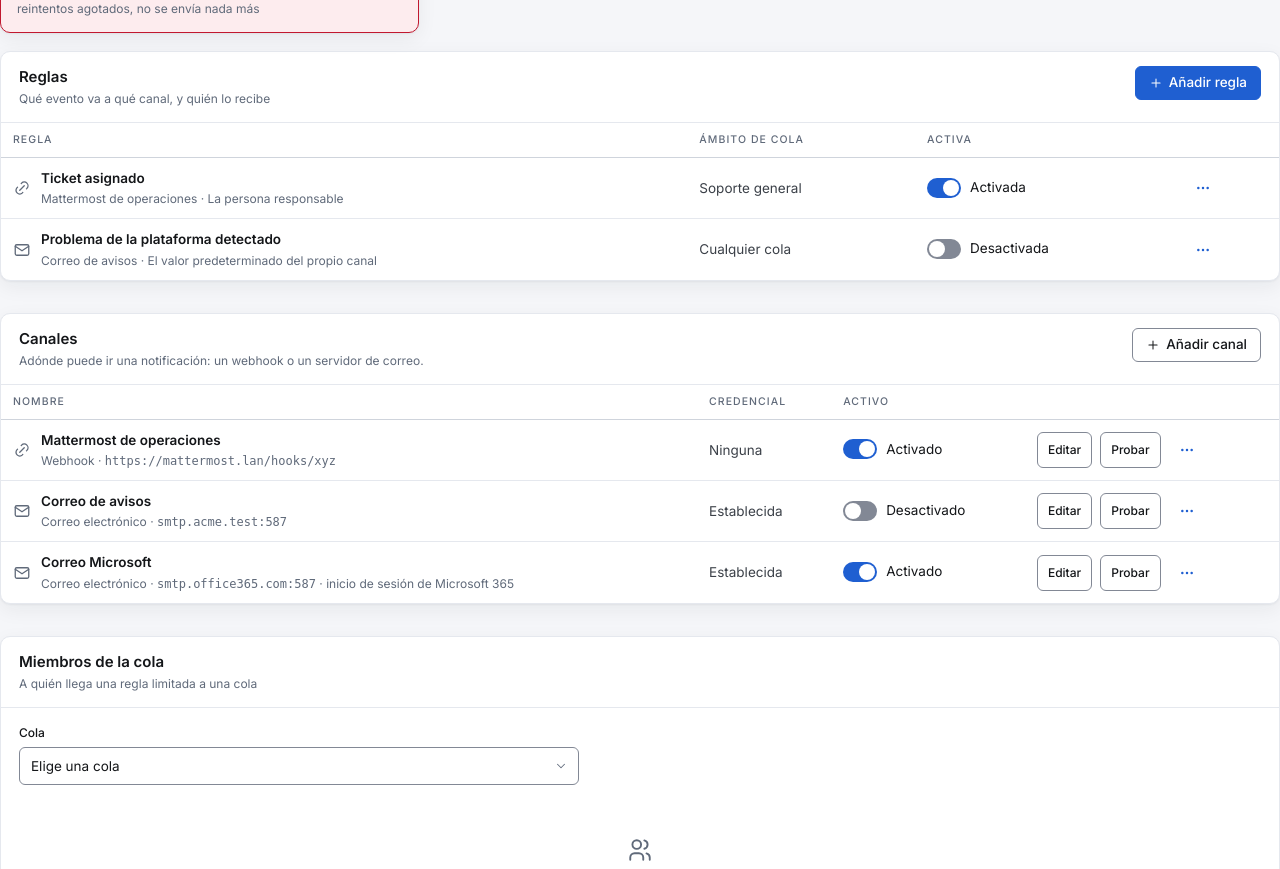
Test: the channels in Spanish › words a failed test, toggle and delete, holding the failure
(page scrolled)
Check: the text "Mattermost de operaciones" below "Nombre" is shown, box [41,432,221,448]
Click the button "Probar" in the row of "https://mattermost.lan/hooks/xyz". click: click(1130, 450)
box: [1100,432,1161,468]
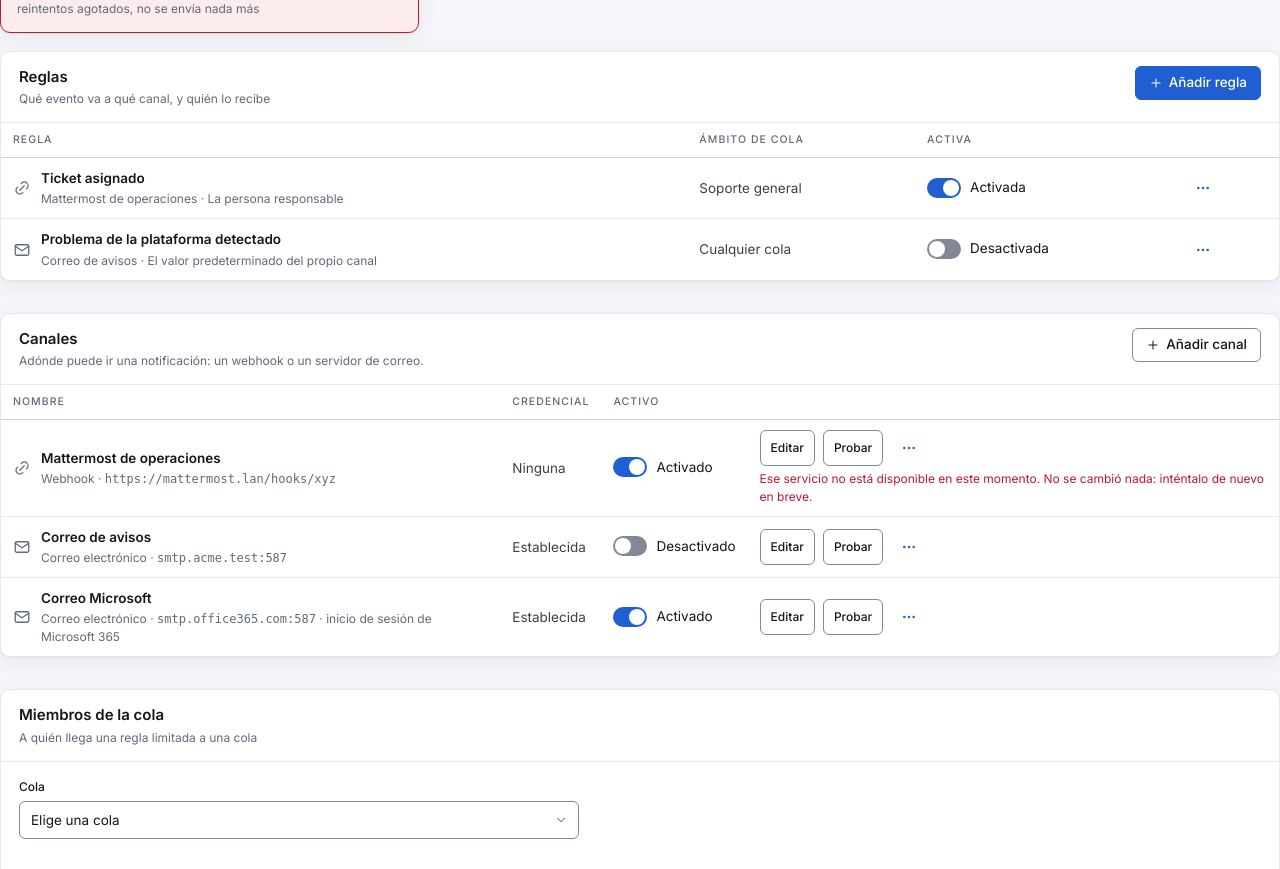
Check: the message shows "Ese servicio no está disponible en este momento.", box [760,471,1264,504]
Click the switch labelled "Activado" in the row of "https://mattermost.lan/hooks/xyz". click: click(663, 467)
box: [613,453,713,481]
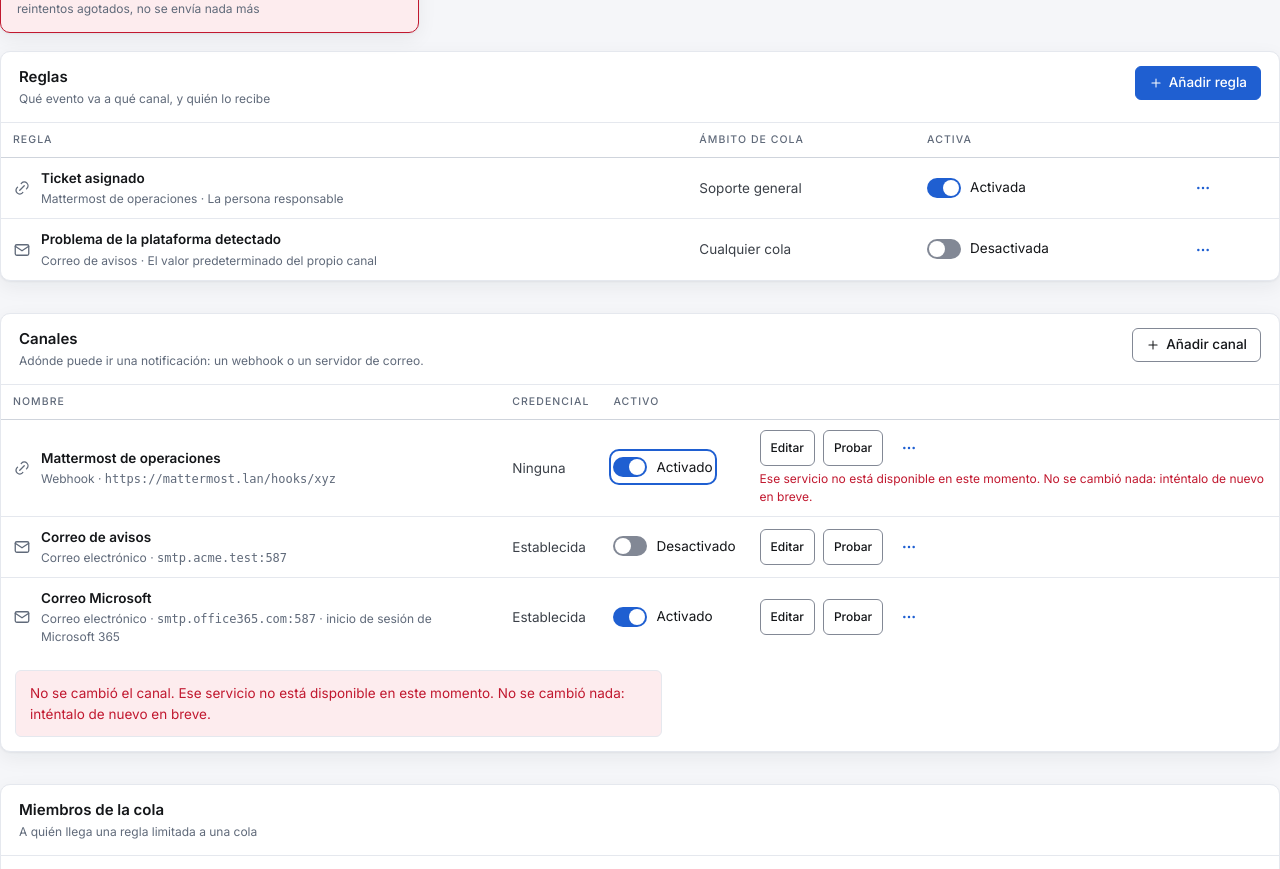
Check: the text "No se cambió el canal. Ese servicio no está disponible" is shown, box [30,685,625,722]
Click the button named "Más acciones para Mattermost de operaciones". click: click(909, 448)
box: [891,430,927,466]
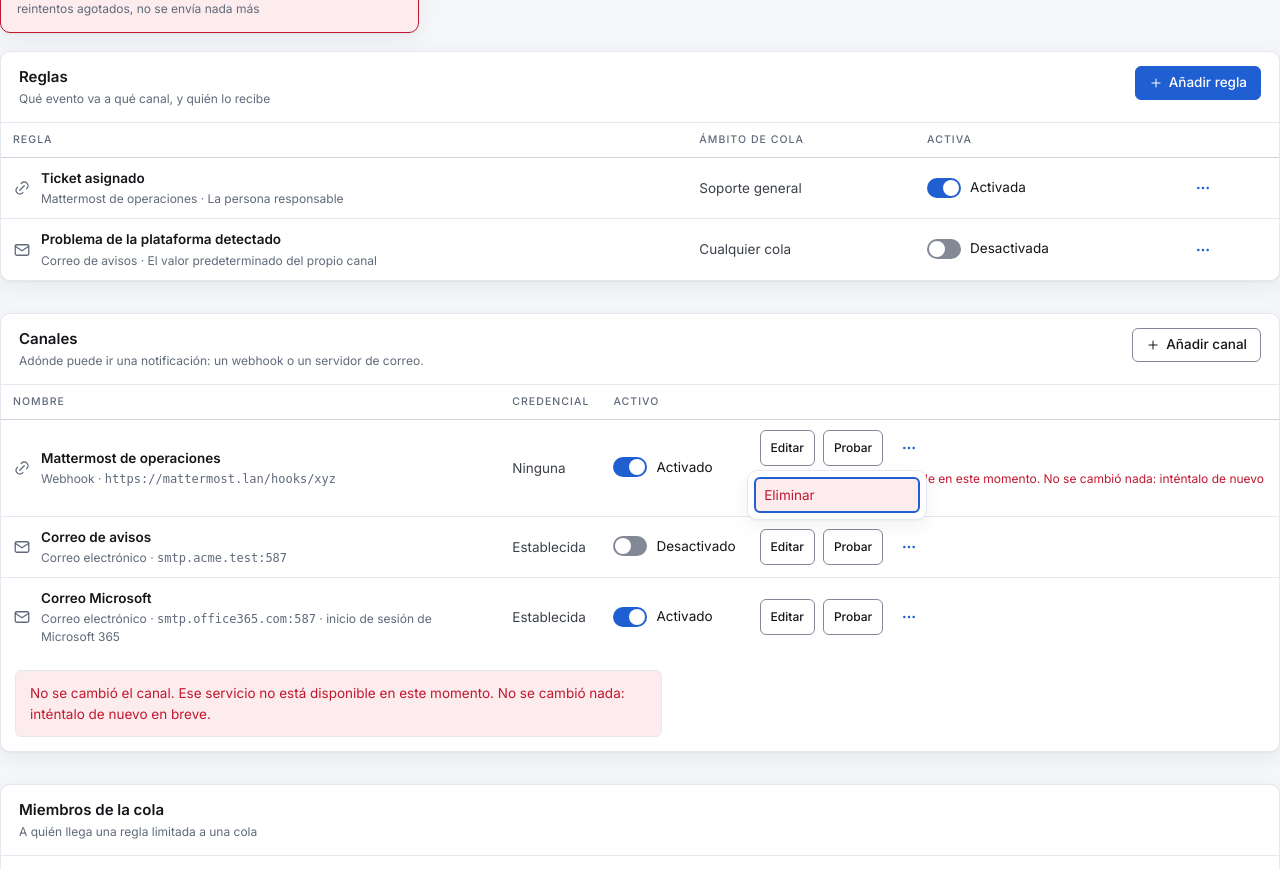
Click the menu item "Eliminar". click: click(837, 495)
box: [754,477,920,513]
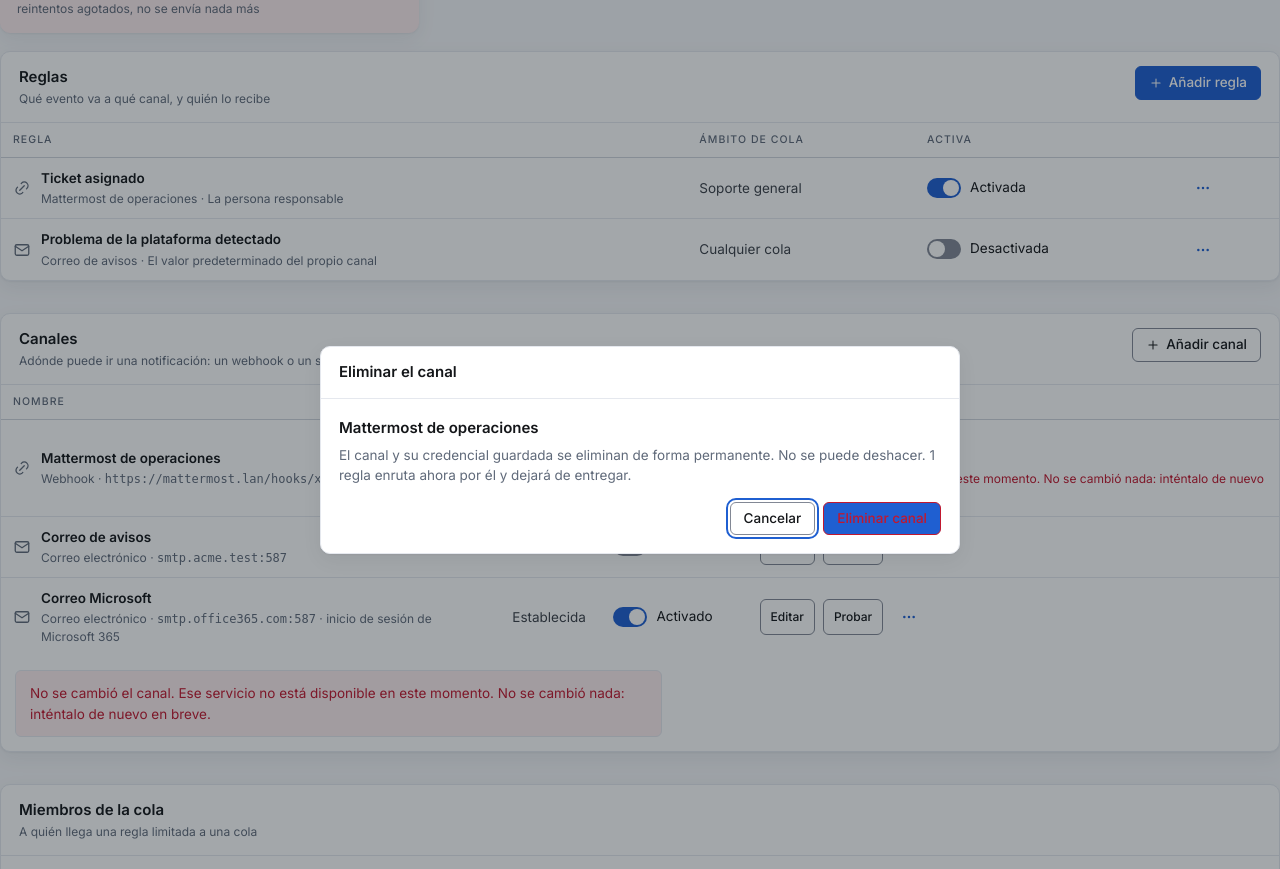
Check: the text "El canal y su credencial guardada se eliminan de forma permanente. No se puede deshacer. 1 regla enruta ahora por él y d" is shown, box [339,447,935,483]
Click the button "Eliminar canal". click: click(882, 518)
box: [823,502,941,535]
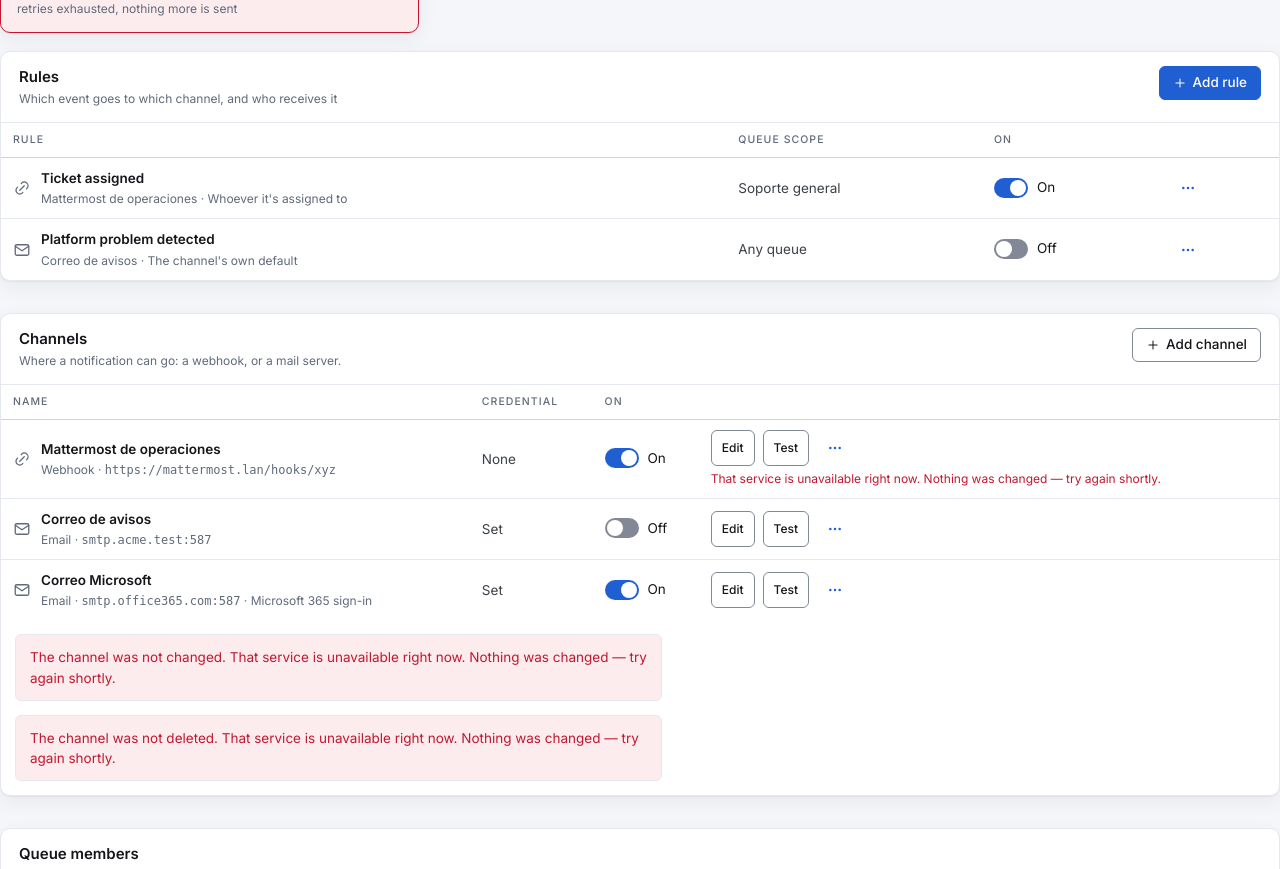
Check: the text "No se eliminó el canal. Ese servicio no está disponible" is shown, box [15,715,662,781]
Check: the text "The channel was not deleted. That service is unavailable" is shown, box [30,730,639,766]
